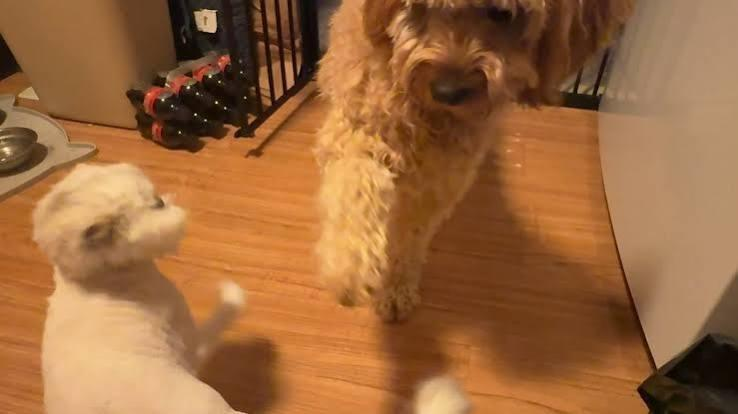adult_dog: (311, 1, 637, 325), (30, 159, 250, 413)
